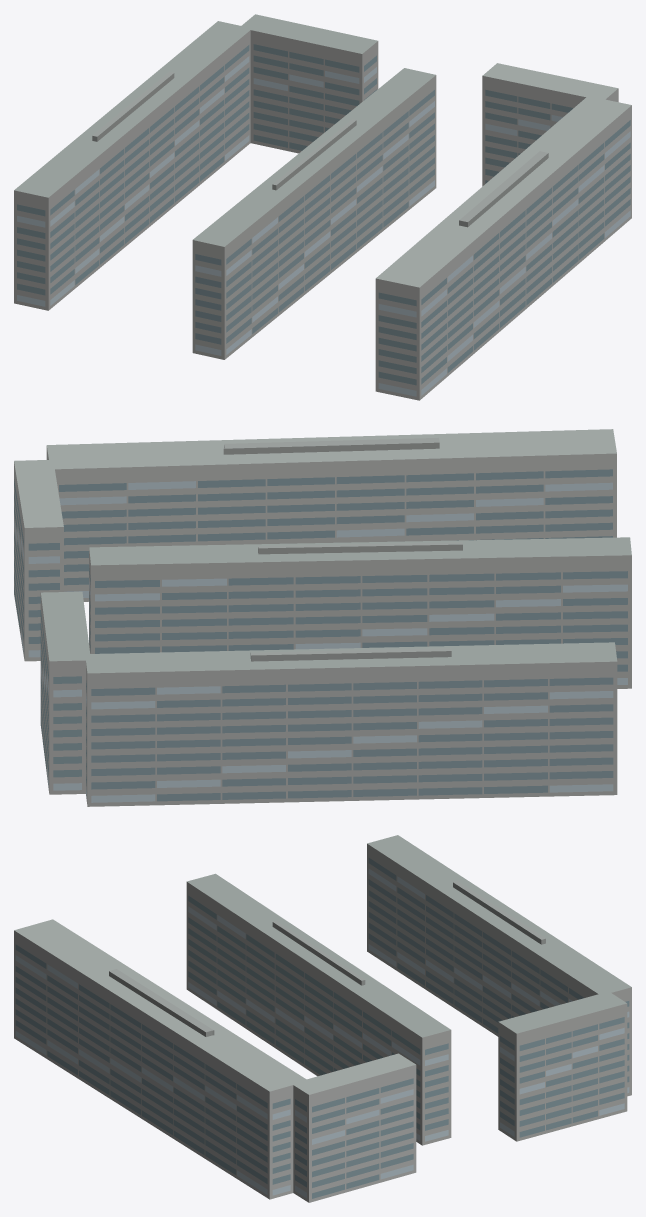
The model's file is apt-a13790721.glb.
The picture shows the model from 3 angles, top to bottom: view 1: azimuth 30°, elevation 25°; view 2: azimuth 150°, elevation 25°; view 3: azimuth 270°, elevation 25°; orthographic projection. The views are drawn at different scales.
Visible parts, largest first — view 1: apt-a13790721; view 2: apt-a13790721; view 3: apt-a13790721.
Boxes of the visible parts, x1=… form: apt-a13790721: x1=14, y1=14, x2=631, y2=400; apt-a13790721: x1=14, y1=429, x2=631, y2=806; apt-a13790721: x1=14, y1=835, x2=631, y2=1202.
Size of the model in its own units: 157 by 31.88 by 158.
